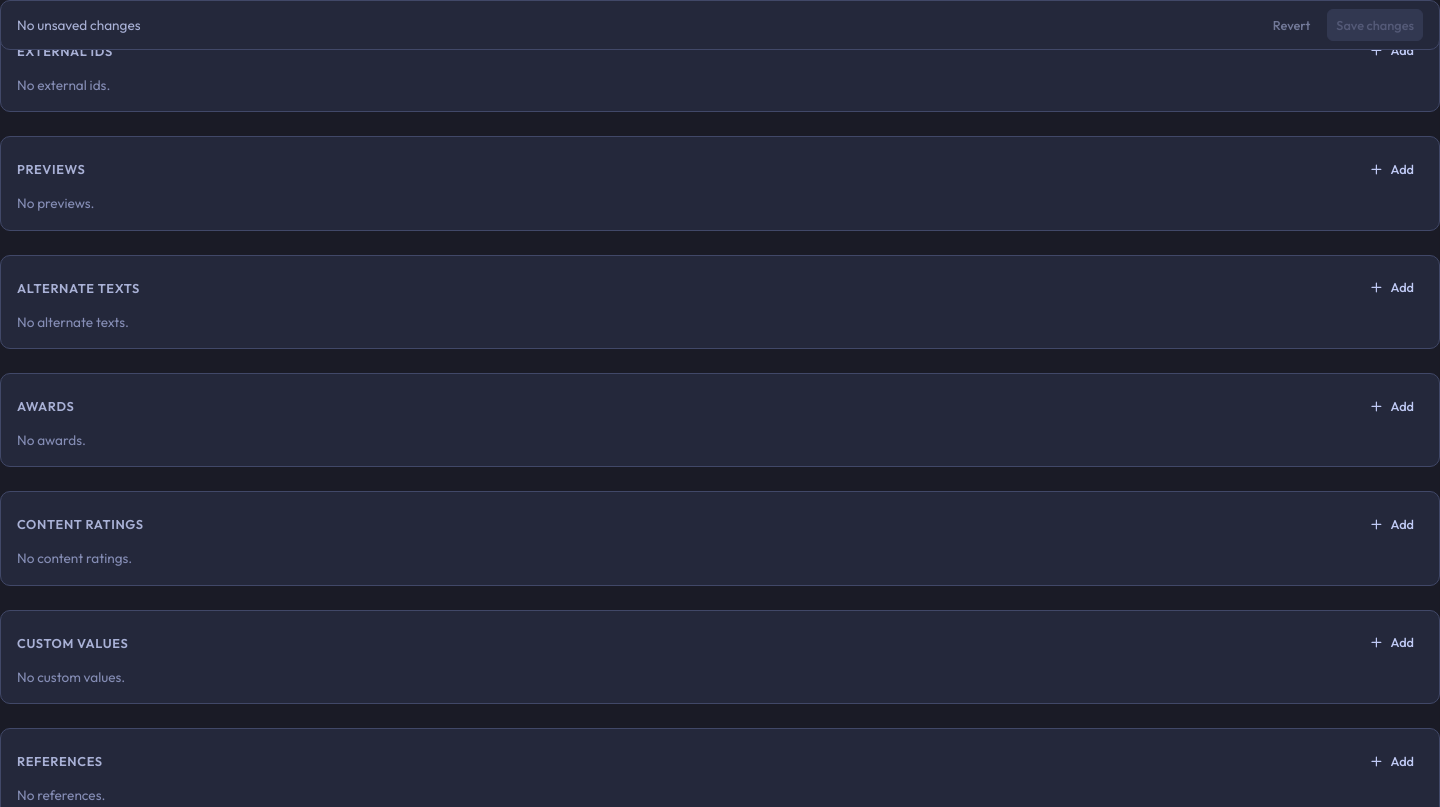
it: MetadataInspector › leaves no unsaved change or conflict after a new award is saved and refetched
The image size is (1440, 807).
(page scrolled)
Click the button with aria-label "add award".
click(1392, 406)  # box [1361,390,1423,422]
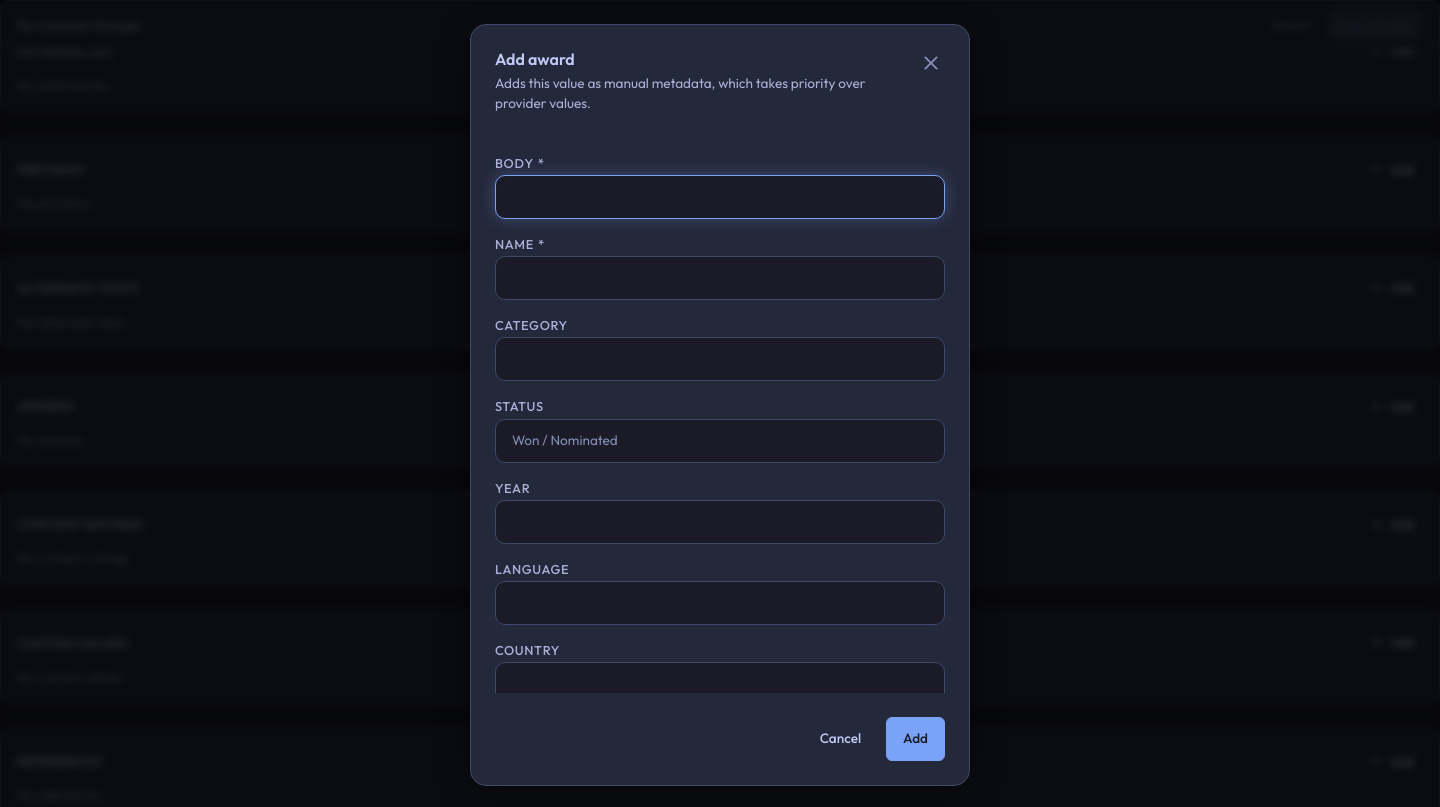
Expected: the field labelled "Body *" is shown
Type "QA awards body" into the field labelled "Body *".
click(720, 197); type("QA awards body")  # box [496,179,944,215]
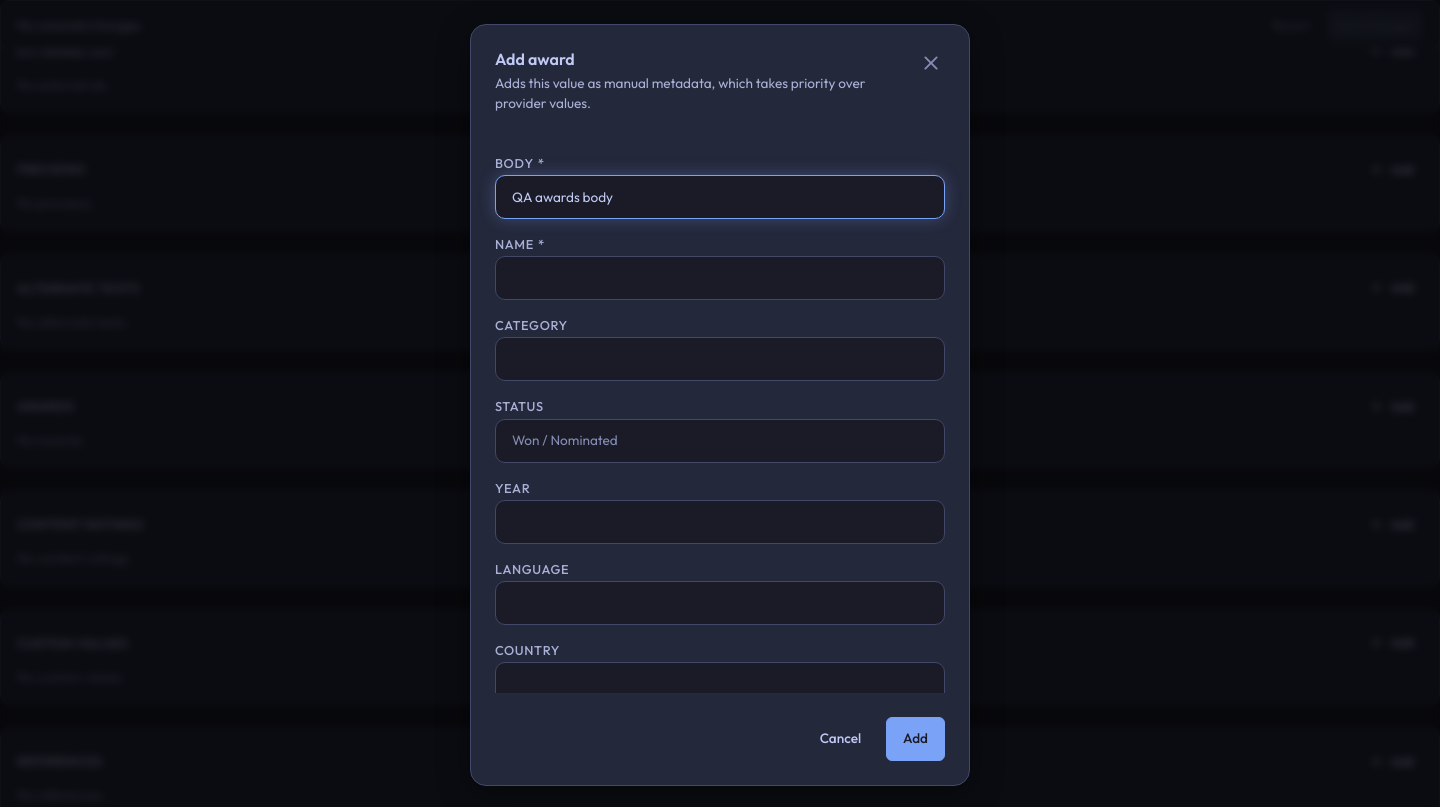
Type "QA award" into the field labelled "Name *".
click(720, 278); type("QA award")  # box [496,260,944,296]
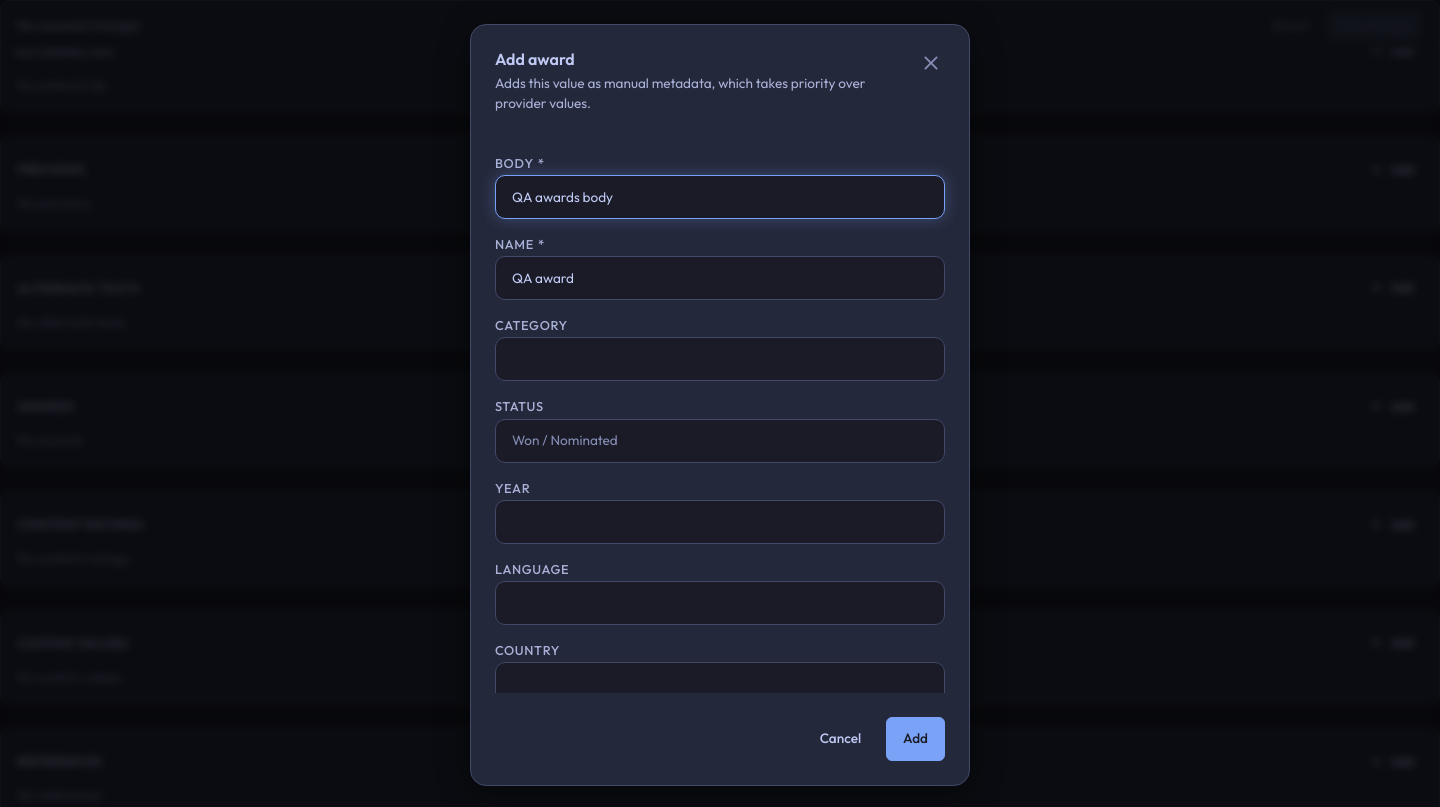
Click the button "Add".
click(916, 739)  # box [886,717,945,761]
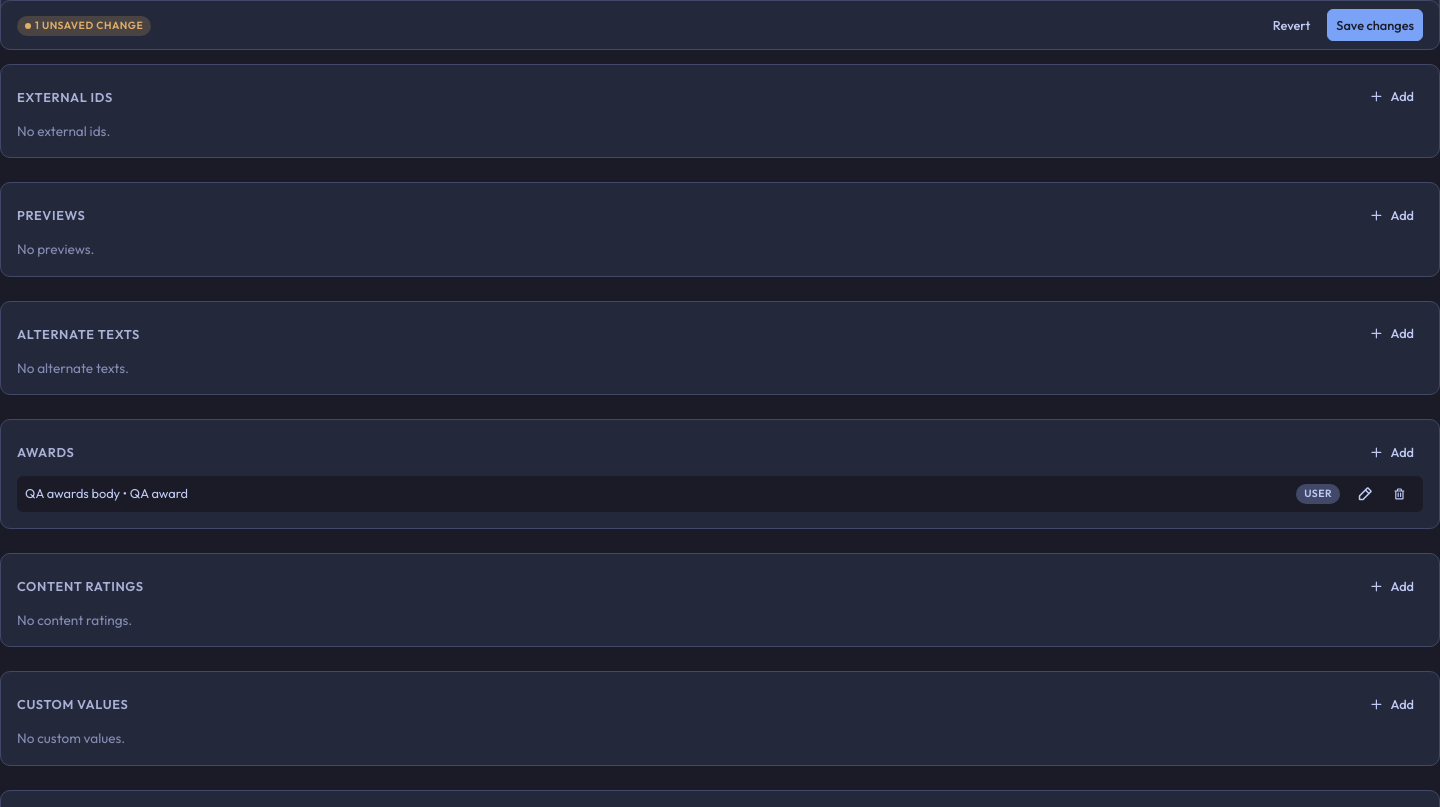
Click the button "Save changes".
click(1375, 25)  # box [1327,9,1423,41]
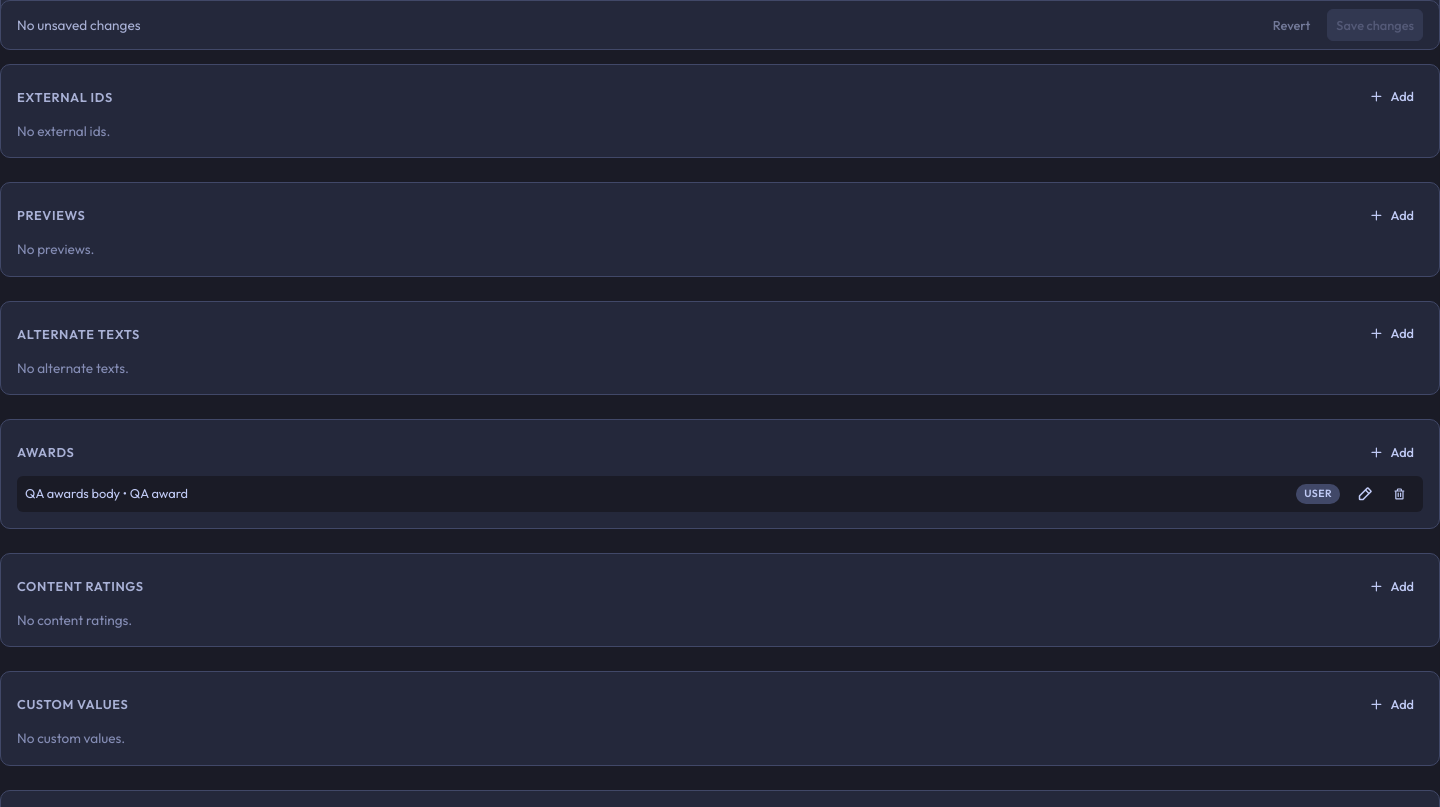
Expected: the text "No unsaved changes" is shown, [17,16,140,34]
